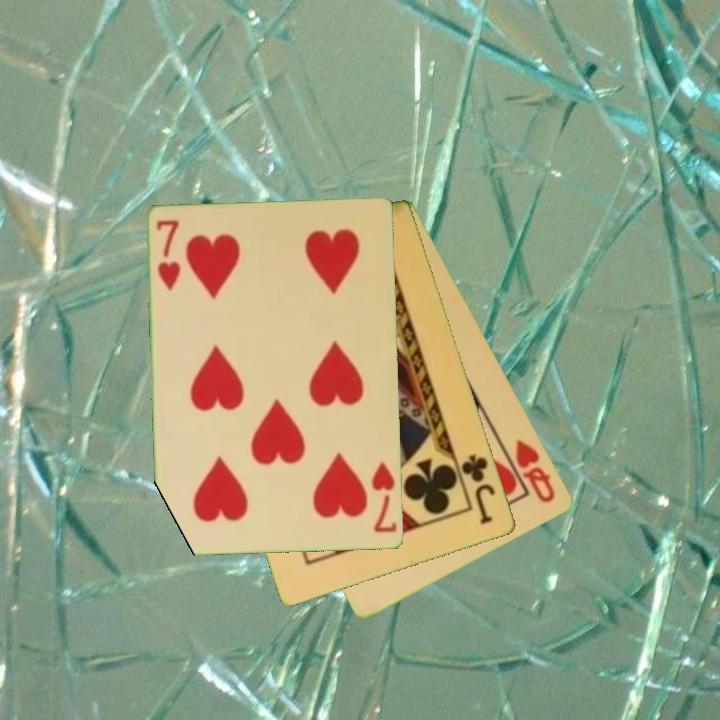7h: (369, 458, 400, 536), (153, 217, 184, 294)
Jc: (458, 451, 499, 528)
Qh: (512, 435, 559, 506)
